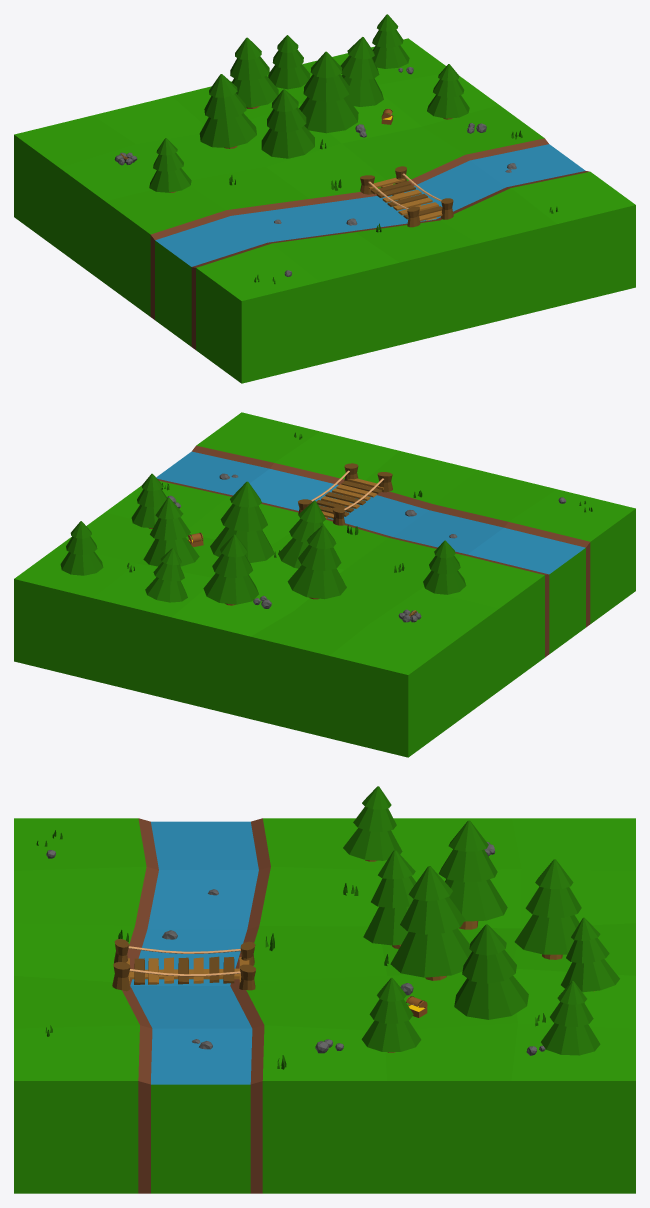
Rendered from forest_river_001.fbx.
3 renders of one model, top to bottom at view 1: azimuth 30°, elevation 25°; view 2: azimuth 150°, elevation 25°; view 3: azimuth 270°, elevation 25°, orthographic. The views are drawn at different scales.
Visible parts, largest first — view 1: Cube.001, Cylinder.013, Cylinder.011, Cylinder.012, Cylinder.014, Cylinder.015, Cylinder.017, Cylinder.016, Cylinder.019, Cylinder.018; view 2: Cube.001, Cylinder.011, Cylinder.013, Cylinder.014, Cylinder.015, Cylinder.019, Cylinder.018, Cylinder.017, Cylinder.012, Cylinder.016; view 3: Cube.001, Cylinder.013, Cylinder.015, Cylinder.011, Cylinder.014, Cylinder.012, Cylinder.016, Cylinder.018, Cylinder.019, Cylinder.017.
Part boxes in pixels (<box>): Cube.001: <box>14,38,635,383</box>; Cylinder.013: <box>299,51,358,133</box>; Cylinder.011: <box>199,74,256,148</box>; Cylinder.012: <box>261,89,314,158</box>; Cylinder.014: <box>230,37,278,108</box>; Cylinder.015: <box>340,37,383,106</box>; Cylinder.017: <box>268,35,310,89</box>; Cylinder.016: <box>427,64,469,119</box>; Cylinder.019: <box>149,138,191,192</box>; Cylinder.018: <box>372,14,409,68</box>; Cube.001: <box>14,412,635,757</box>; Cylinder.011: <box>287,525,346,599</box>; Cylinder.013: <box>210,481,274,562</box>; Cylinder.014: <box>203,534,258,605</box>; Cylinder.015: <box>143,497,199,566</box>; Cylinder.019: <box>423,540,466,594</box>; Cylinder.018: <box>60,521,103,575</box>; Cylinder.017: <box>145,548,187,602</box>; Cylinder.012: <box>278,500,325,568</box>; Cylinder.016: <box>131,473,167,528</box>; Cube.001: <box>14,818,635,1193</box>; Cylinder.013: <box>390,866,471,980</box>; Cylinder.015: <box>454,924,528,1019</box>; Cylinder.011: <box>438,820,507,929</box>; Cylinder.014: <box>514,859,581,959</box>; Cylinder.012: <box>363,850,416,948</box>; Cylinder.016: <box>361,977,421,1052</box>; Cylinder.018: <box>541,981,600,1055</box>; Cylinder.019: <box>343,786,402,861</box>; Cylinder.017: <box>561,917,619,992</box>.
Bounding box in the file's own units: 200 × 78.81 × 200.
